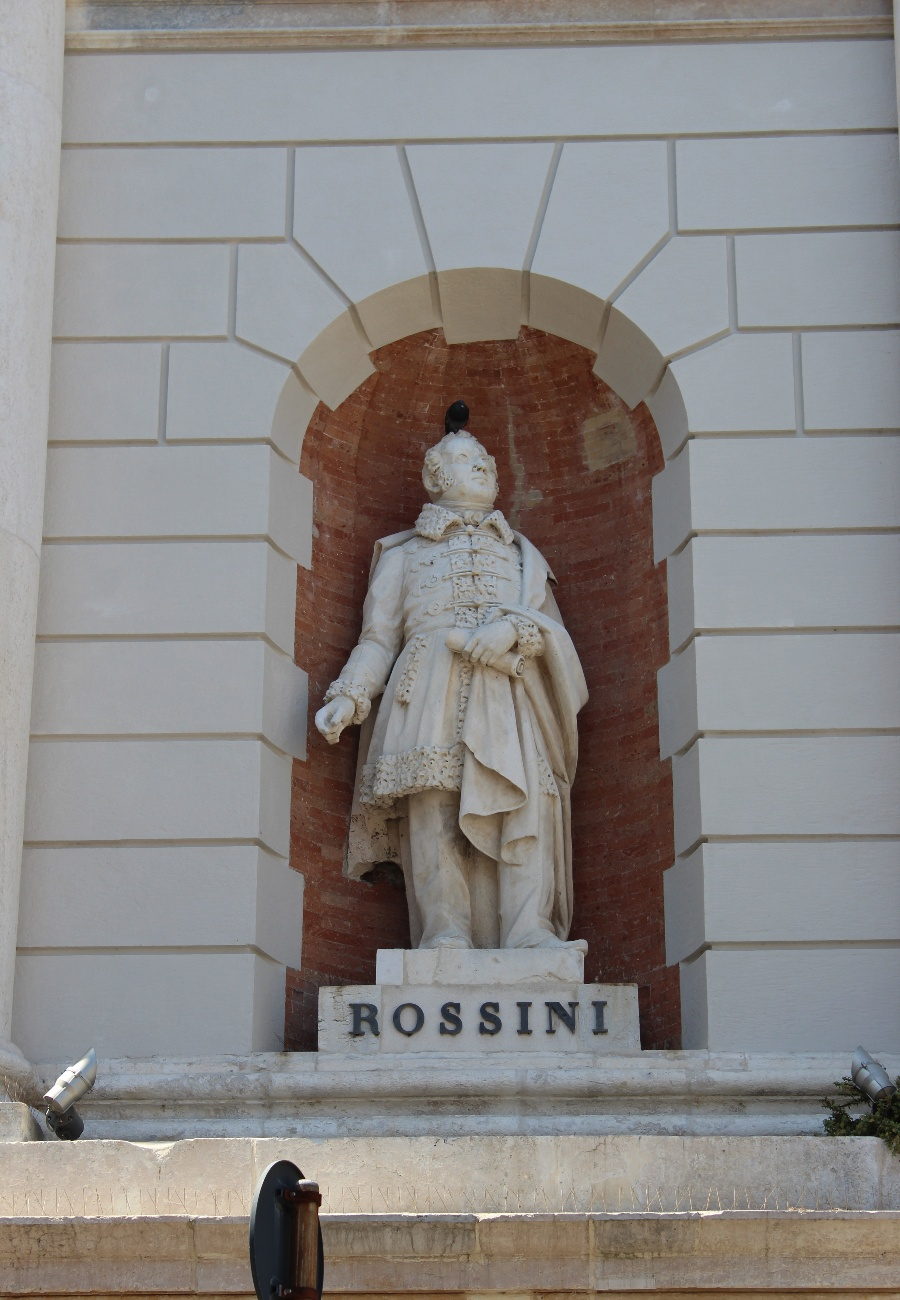Gioachino Rossini: (250, 267, 707, 1059)
